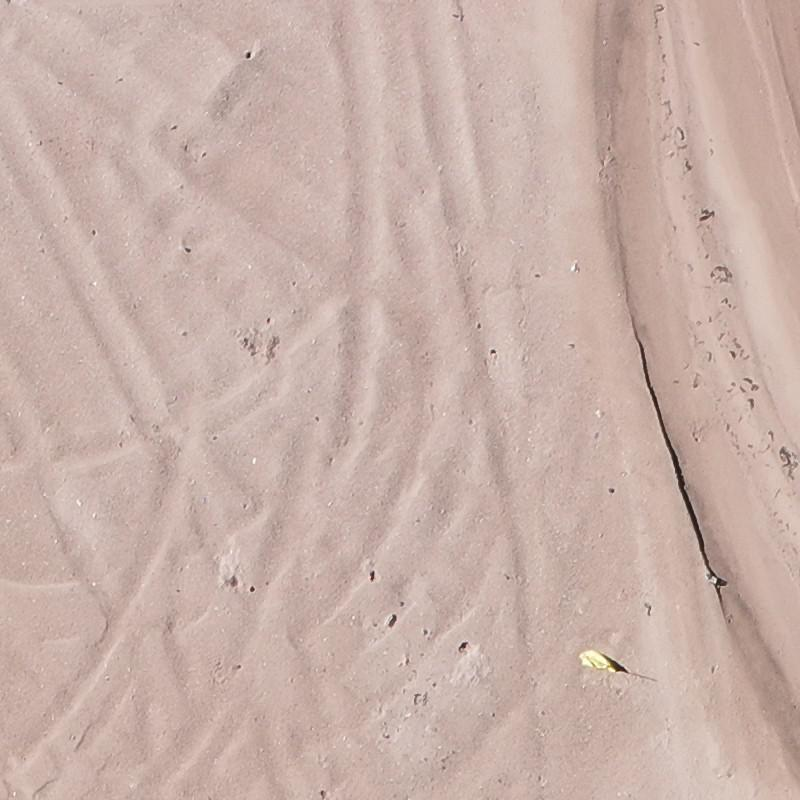coastal_litter: (575, 641, 632, 679)
